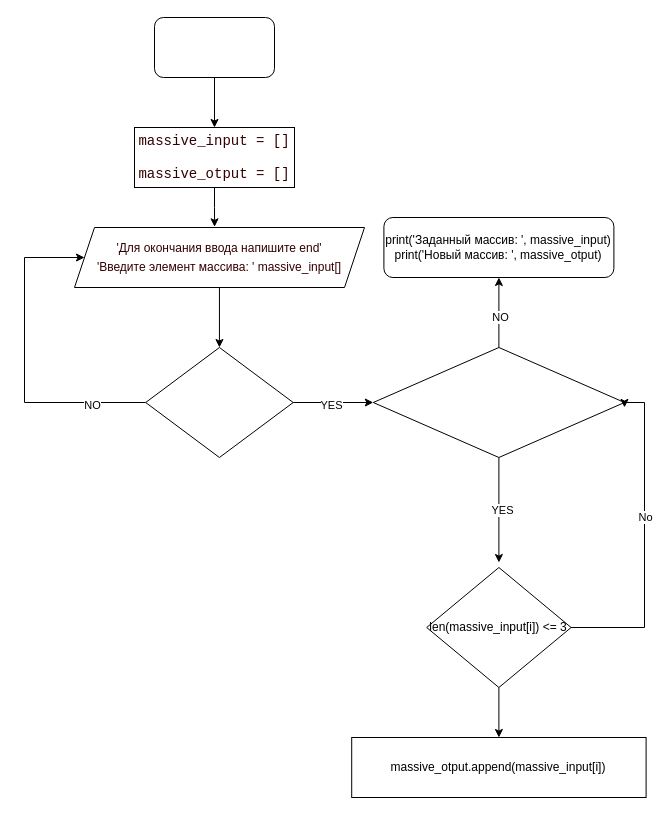
Image size: 670x815. Some labels were removed from this diagram. Here are the shapes that lost their labels. From the top down, the centre of each, then its label:
(214,47): Start
(219,402): input massive_input[i] = "end"
(498,402): i in range(len(massive_input))
